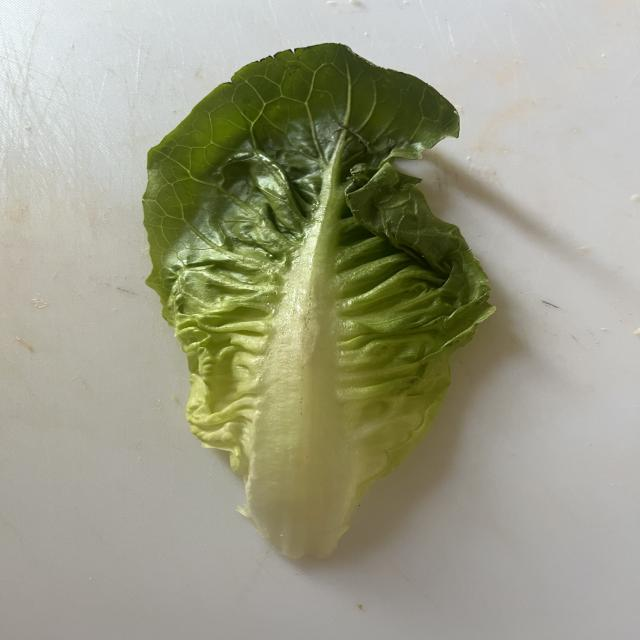lettuce: (143, 44, 493, 558)
